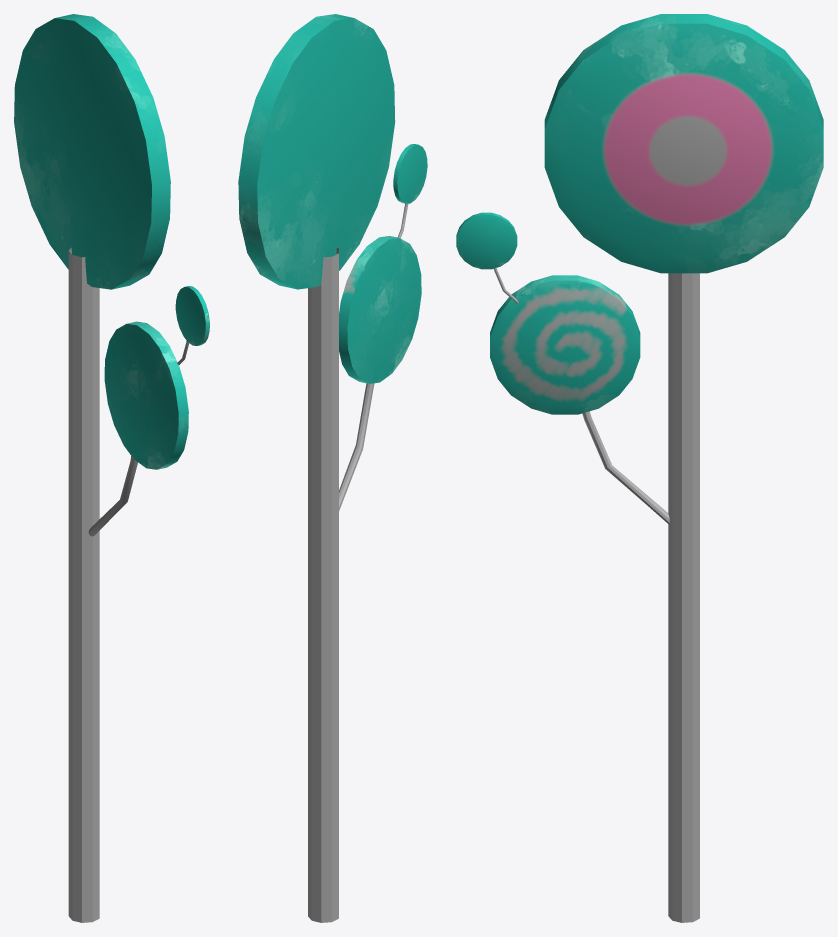
File: piruleta arbol 1.fbx
The picture shows the model from 3 angles, left to right: view 1: azimuth 30°, elevation 25°; view 2: azimuth 150°, elevation 25°; view 3: azimuth 270°, elevation 25°; orthographic projection.
Visible parts, largest first — view 1: Cylinder.012; view 2: Cylinder.012; view 3: Cylinder.012.
Part boxes in pixels (left/top/right/bottom): Cylinder.012: left=14, top=14, right=209, bottom=922; Cylinder.012: left=238, top=14, right=427, bottom=922; Cylinder.012: left=456, top=14, right=823, bottom=922.
Bounding box in the file's own units: 29.38 × 565 × 209.
